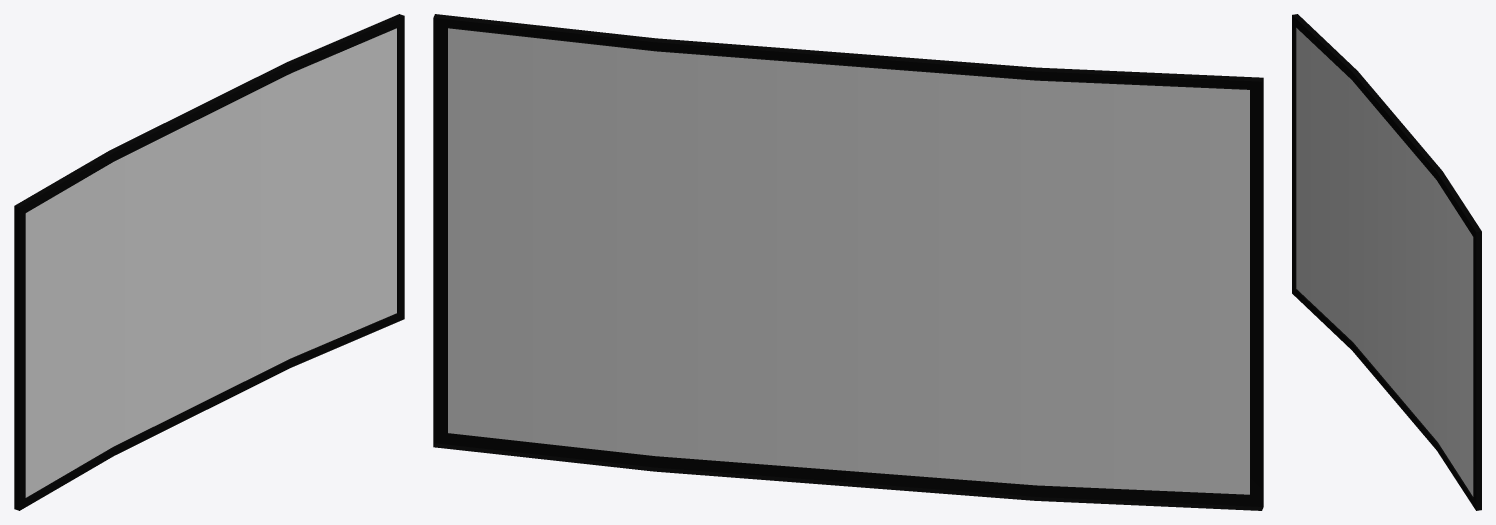
3 renders of one model, left to right at view 1: azimuth 30°, elevation 25°; view 2: azimuth 150°, elevation 25°; view 3: azimuth 270°, elevation 25°, orthographic. The views are drawn at different scales.
Parts seen in each view (by area): view 1: Cube.007, Cube.001; view 2: Cube.007, Cube.001; view 3: Cube.007, Cube.001.
Boxes of the visible parts, box(x1,y1,x2,y2) form: Cube.007: box(25, 28, 396, 497); Cube.001: box(14, 14, 404, 510); Cube.007: box(448, 28, 1249, 494); Cube.001: box(433, 14, 1263, 510); Cube.007: box(1296, 28, 1473, 496); Cube.001: box(1292, 14, 1481, 510).
Size of the model in its own units: 5.04 by 3 by 1.85.
Materials: 2 (1 with a texture image).
